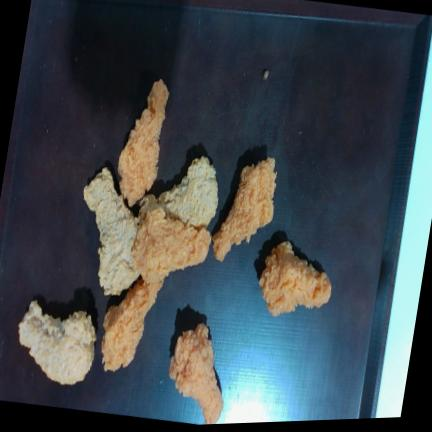chicken: (84, 167, 140, 295), (213, 158, 277, 261), (118, 79, 169, 205), (132, 208, 211, 282), (102, 278, 163, 371), (139, 156, 218, 227), (169, 323, 223, 424), (259, 241, 331, 316)
